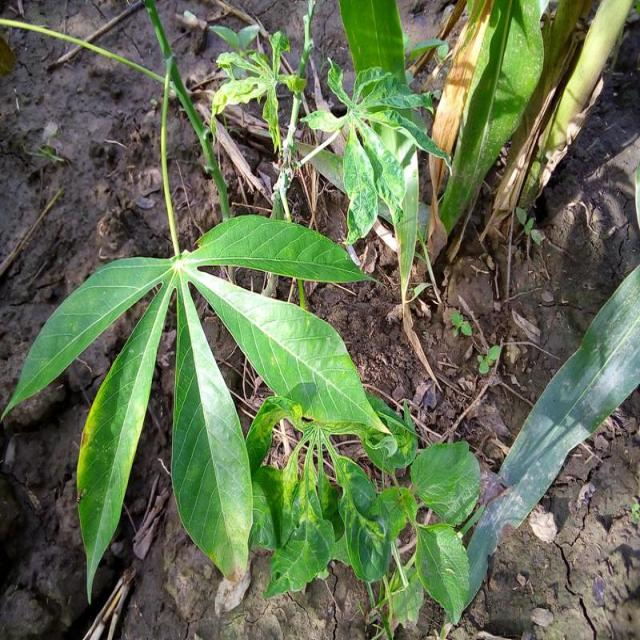cassava leaf: (448, 261, 638, 626), (185, 264, 393, 440), (436, 0, 546, 239), (170, 268, 253, 582)
